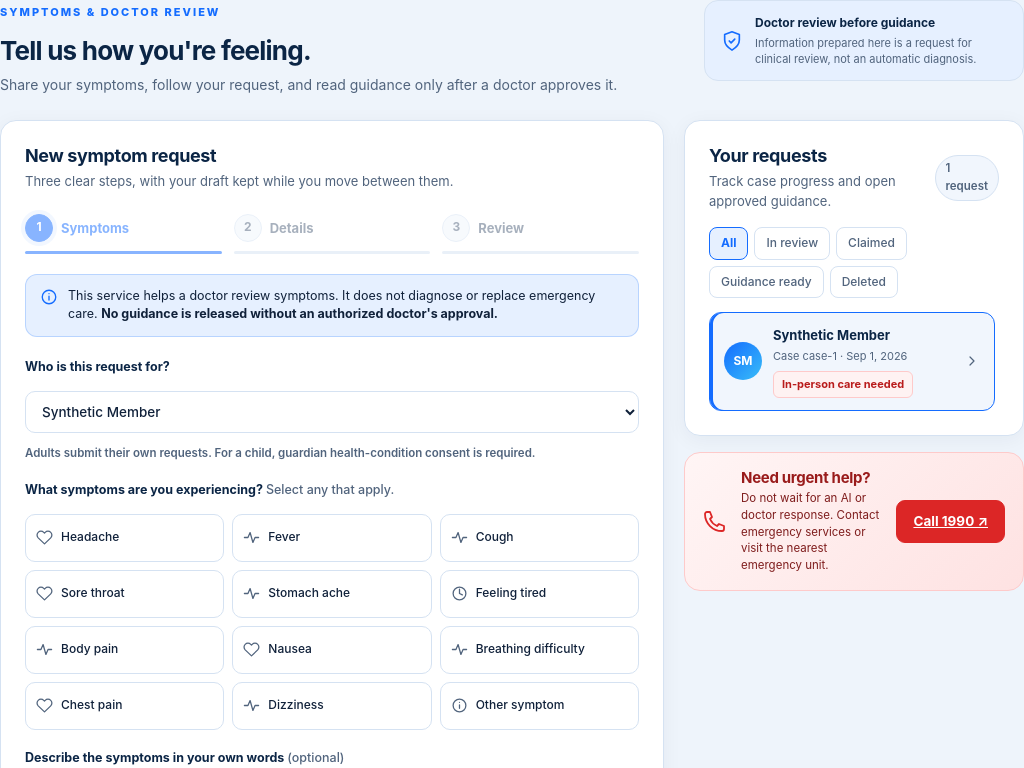
it: TriagePage › preserves submitted input when automatic preparation is interrupted
Click the button that starts with "Synthetic Member" at (852, 361), box top-left (709, 312), bottom-right (995, 410)
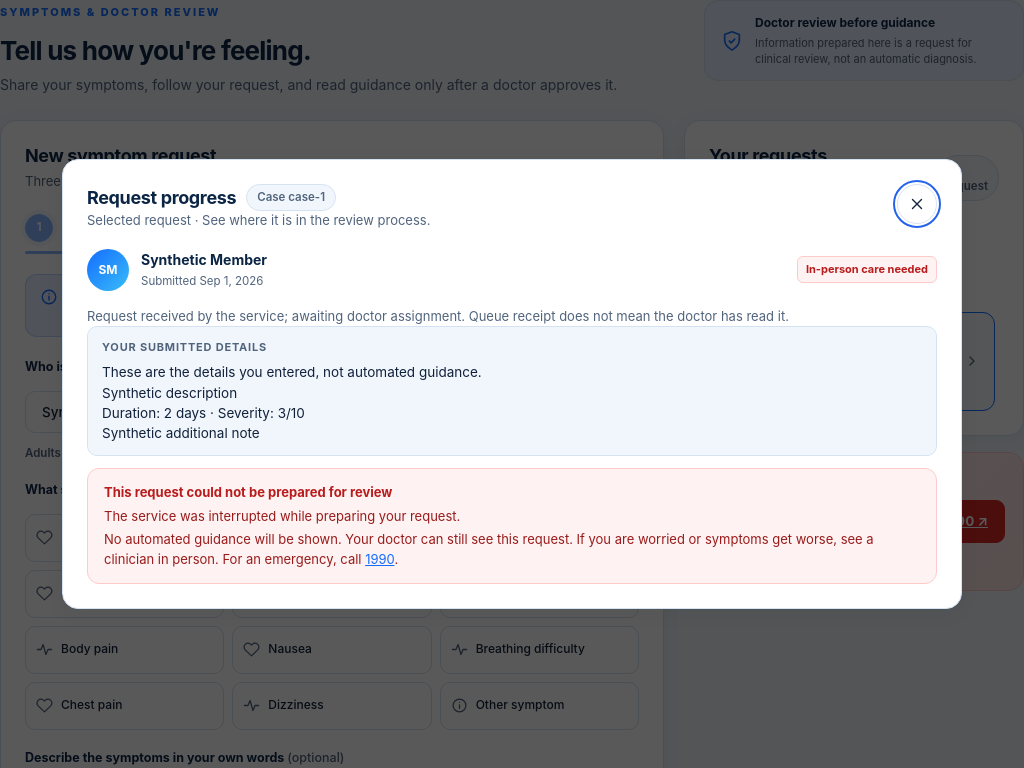
Expected: the text "Your submitted details" is shown, top-left (102, 340), bottom-right (267, 354)
Expected: the text "Synthetic description" is shown, top-left (102, 385), bottom-right (237, 401)
Expected: the text "Synthetic additional note" is shown, top-left (102, 425), bottom-right (260, 441)
